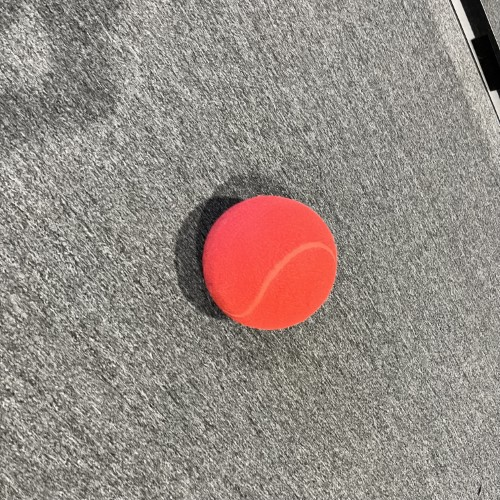red: (201, 192, 340, 332)
